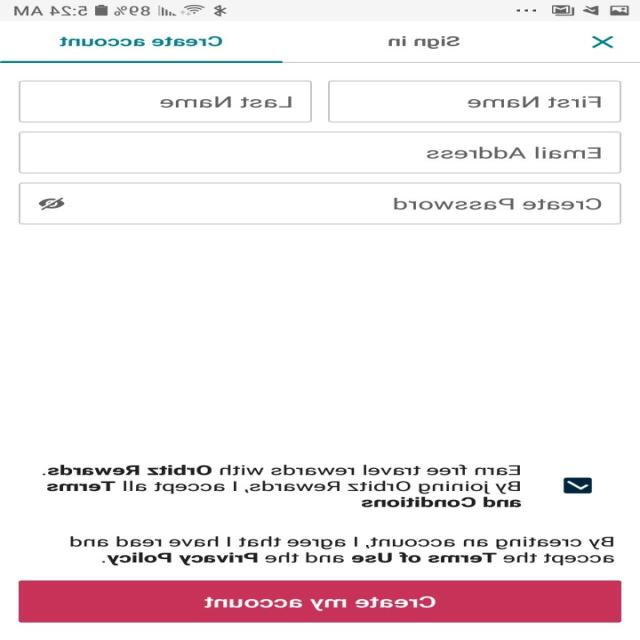EditText: (19, 182, 622, 225), (20, 132, 622, 174), (327, 80, 621, 122), (19, 80, 313, 122)
Icon: (39, 198, 66, 210), (592, 35, 614, 48)
Text: (42, 463, 522, 508), (70, 536, 615, 566), (394, 198, 602, 210), (427, 146, 601, 159), (60, 36, 224, 46), (467, 96, 601, 108), (160, 96, 292, 108), (388, 36, 461, 50)
TextButton: (19, 579, 622, 622)
